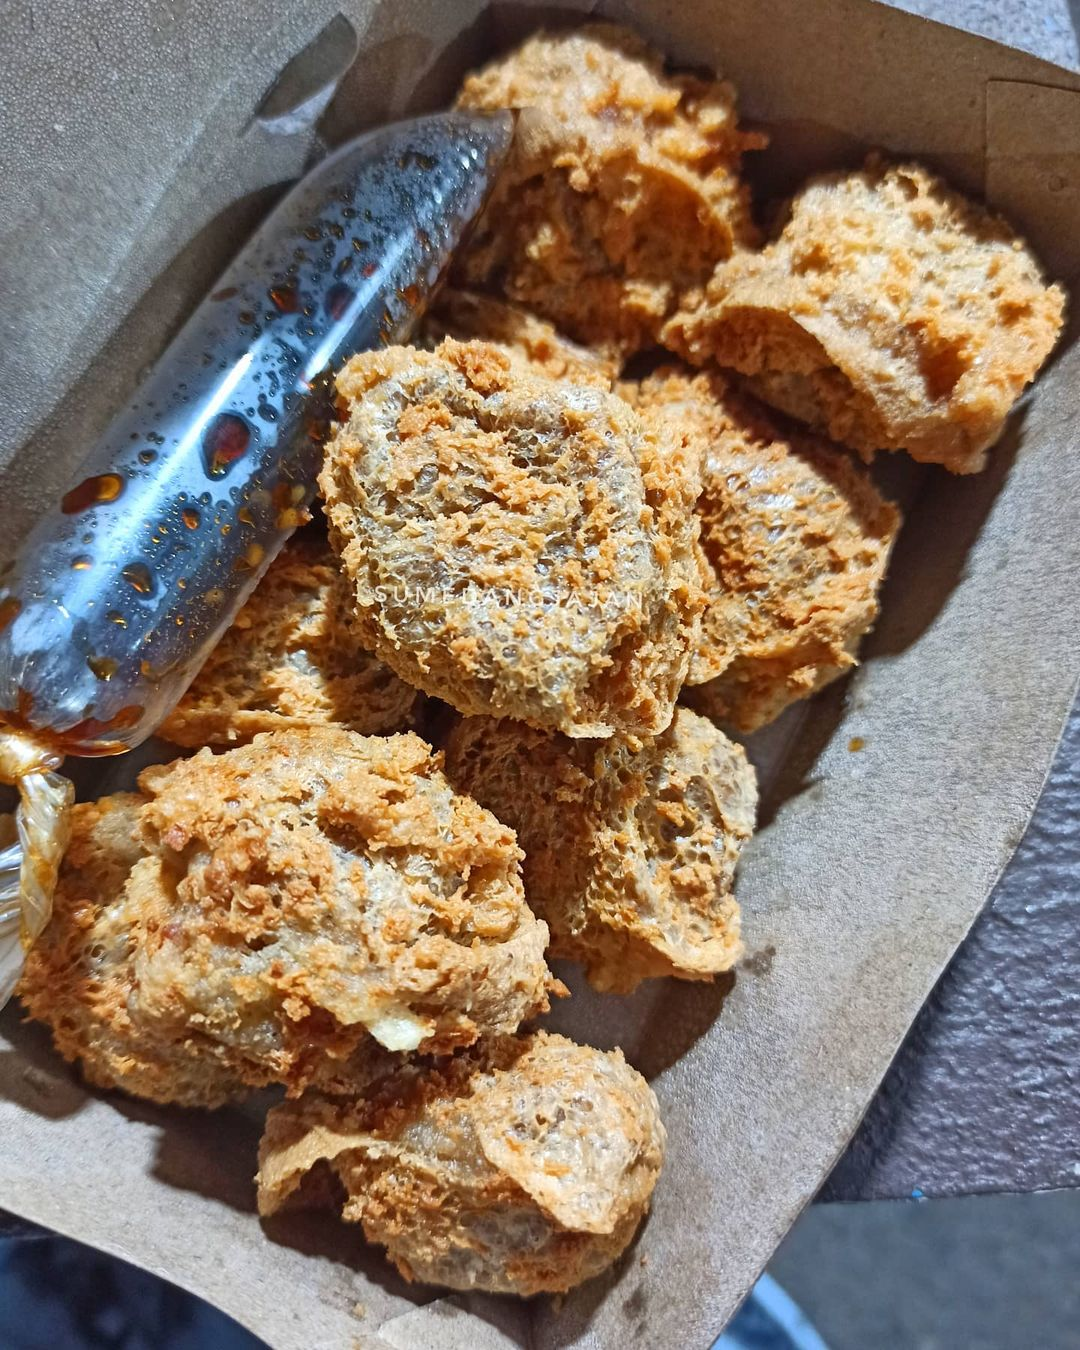Tahu: (32, 721, 494, 1146), (314, 271, 733, 700), (753, 179, 1055, 484)
